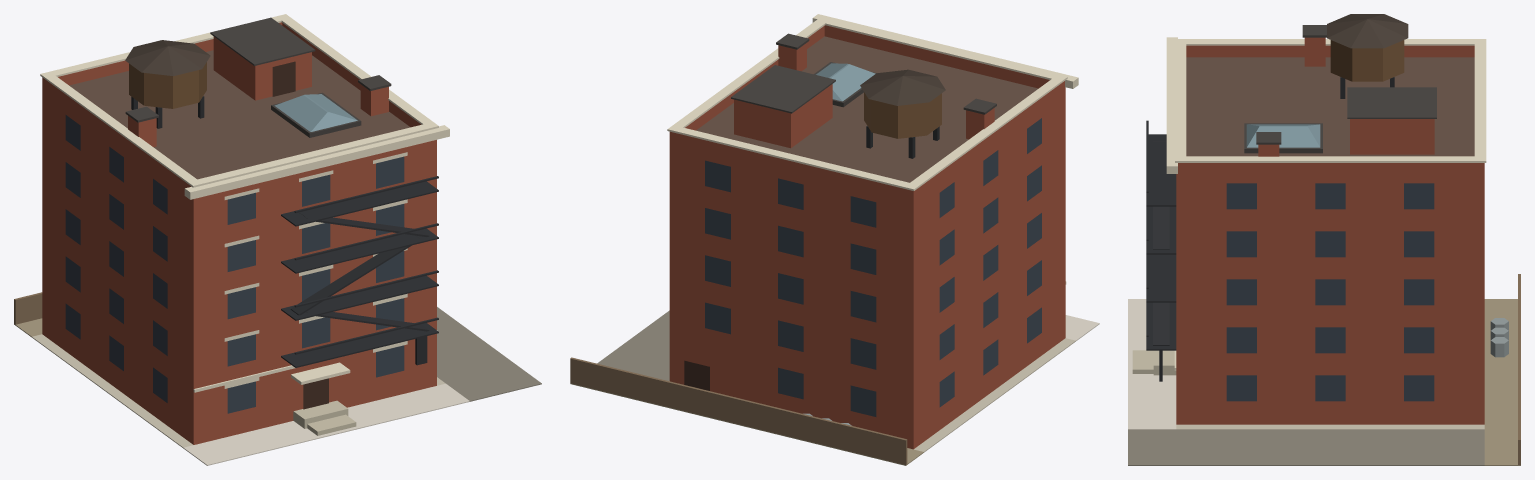
The model's file is apartments_s.glb.
The picture shows the model from 3 angles, left to right: view 1: azimuth 30°, elevation 25°; view 2: azimuth 150°, elevation 25°; view 3: azimuth 270°, elevation 25°; orthographic projection.
Visible parts, largest first — view 1: apartments_s; view 2: apartments_s; view 3: apartments_s.
Boxes of the visible parts, x1,y1,x2,y2 form: apartments_s: (14, 14, 541, 465); apartments_s: (570, 14, 1099, 465); apartments_s: (1128, 14, 1520, 465).
Bounding box in the file's own units: 30 × 26.93 × 30.
